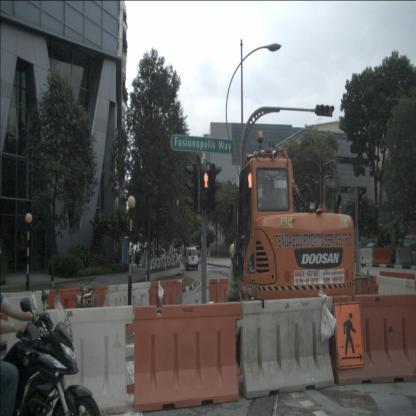barrier: (10, 306, 134, 414), (126, 301, 242, 412), (236, 295, 334, 399), (331, 292, 415, 387), (47, 286, 108, 339), (0, 288, 50, 336), (105, 281, 151, 331), (375, 276, 416, 317), (149, 278, 184, 322), (379, 270, 416, 309), (342, 274, 378, 310), (206, 278, 238, 310), (372, 247, 392, 264), (395, 246, 413, 264), (356, 248, 373, 263)
cone: (182, 265, 186, 278), (195, 289, 198, 303)
